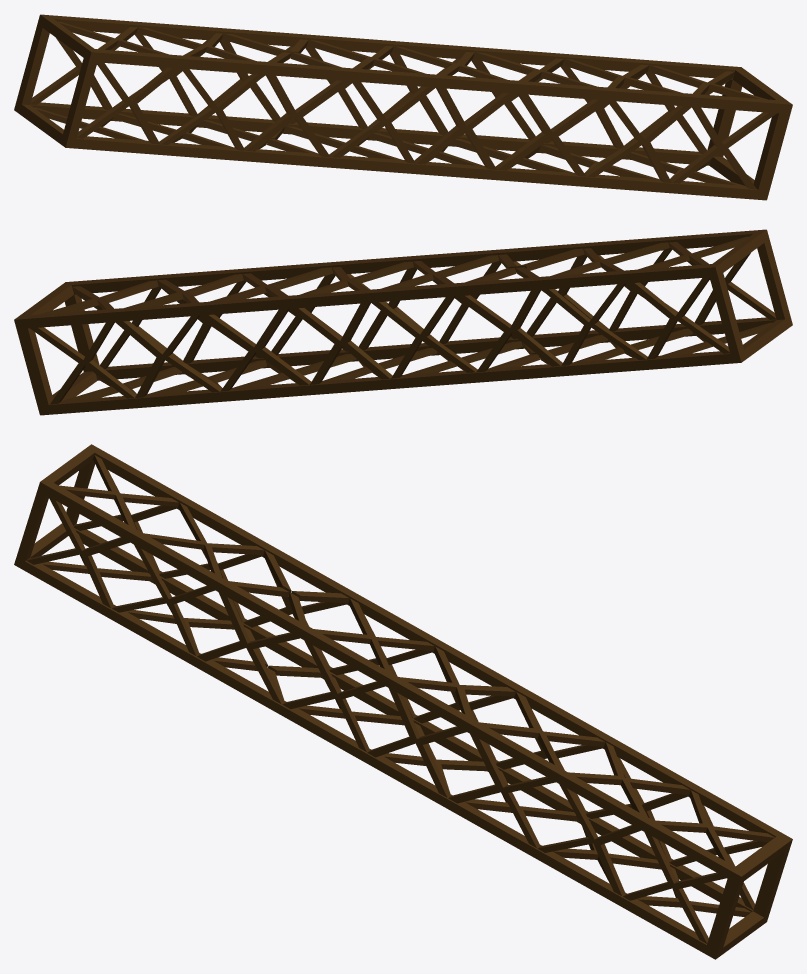
The model's file is Heup Links Achter balk voor_onder.fbx.
3 views of the same model, one above another, from view 1: azimuth 30°, elevation 25°; view 2: azimuth 150°, elevation 25°; view 3: azimuth 330°, elevation 25° (orthographic).
Visible parts, largest first — view 1: Metalen paal.007; view 2: Metalen paal.007; view 3: Metalen paal.007.
Boxes of the visible parts, x1,y1,x2,y2 form: Metalen paal.007: (14,14,792,200); Metalen paal.007: (14,229,792,415); Metalen paal.007: (14,444,792,959).
Size of the model in its own units: 760 by 313 by 93.22.
